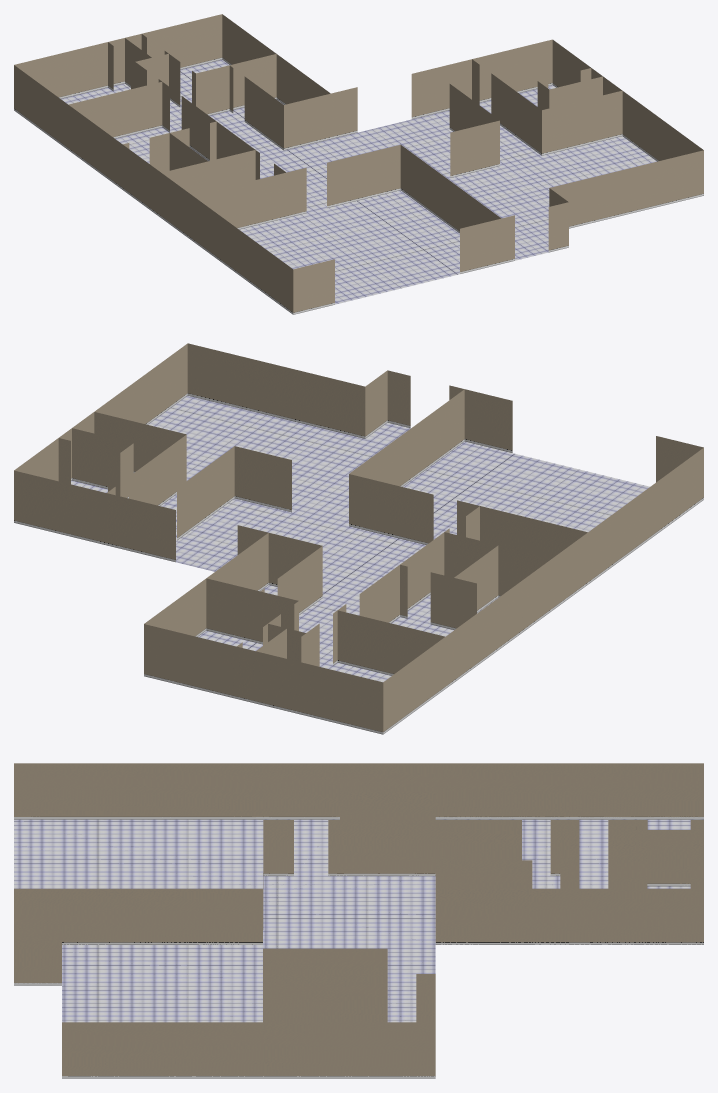
The model's file is houseMap.fbx.
3 renders of one model, top to bottom at view 1: azimuth 30°, elevation 25°; view 2: azimuth 150°, elevation 25°; view 3: azimuth 270°, elevation 25°, orthographic. The views are drawn at different scales.
Parts seen in each view (by area): view 1: HouseMap; view 2: HouseMap; view 3: HouseMap.
Part boxes in pixels (x1,y1,x2,y2): HouseMap: (14, 14, 703, 314); HouseMap: (14, 343, 703, 734); HouseMap: (14, 763, 703, 1078).
Size of the model in its own units: 6400 by 648 by 7200.
Materials: 1 (1 with a texture image).
